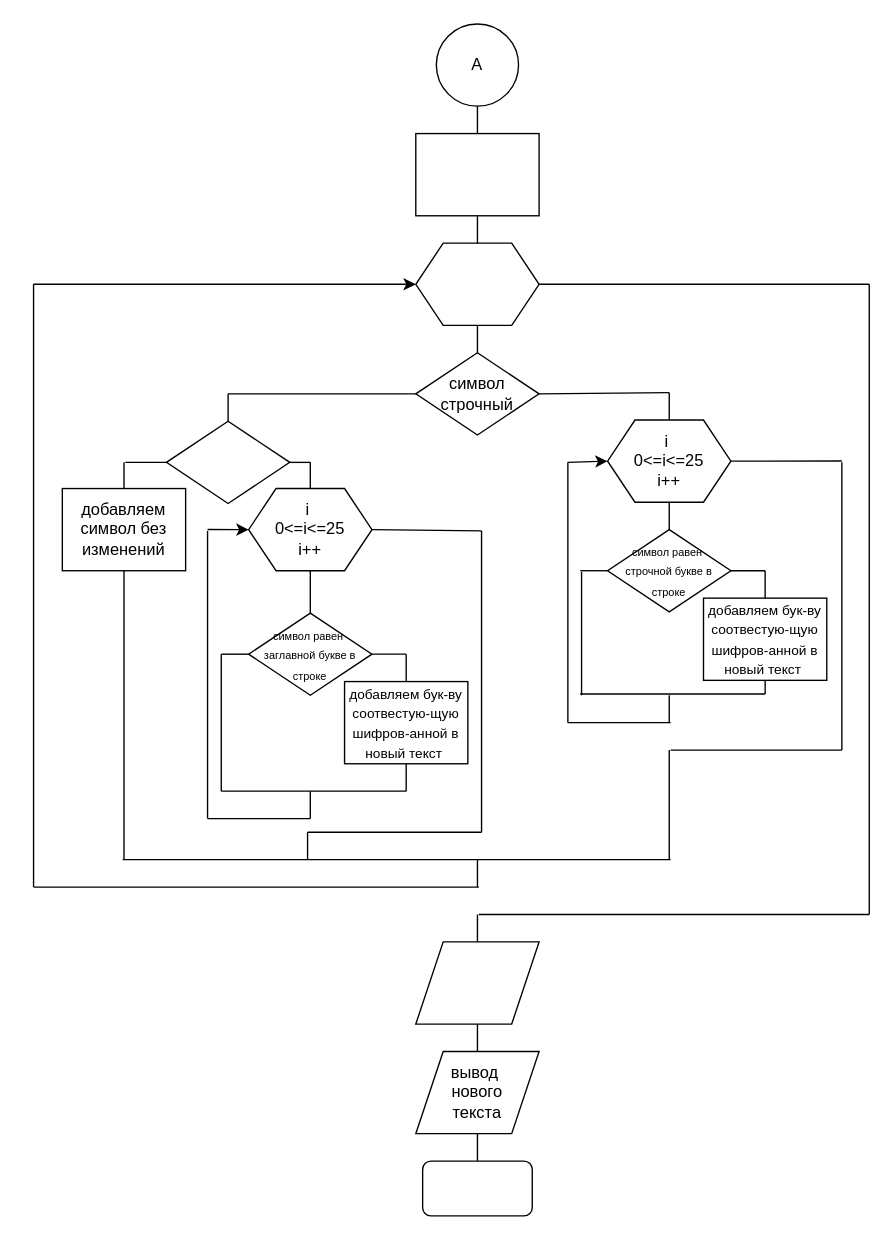
This 895x1240 diagram has some shape labels left out. The box of each missing label's shape, as (x1, y1, x2, y2) in pixels:
вывод макс длины: (414, 941, 539, 1024)
конец: (421, 1160, 532, 1216)
проход по каждому символу в тексте: (414, 242, 539, 325)
символ заглавный: (165, 420, 290, 503)
создаем пустую строку для нового текста: (414, 132, 539, 216)
